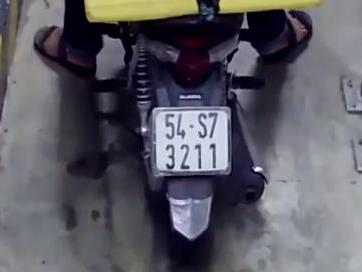num_plate: (151, 106, 233, 178)
